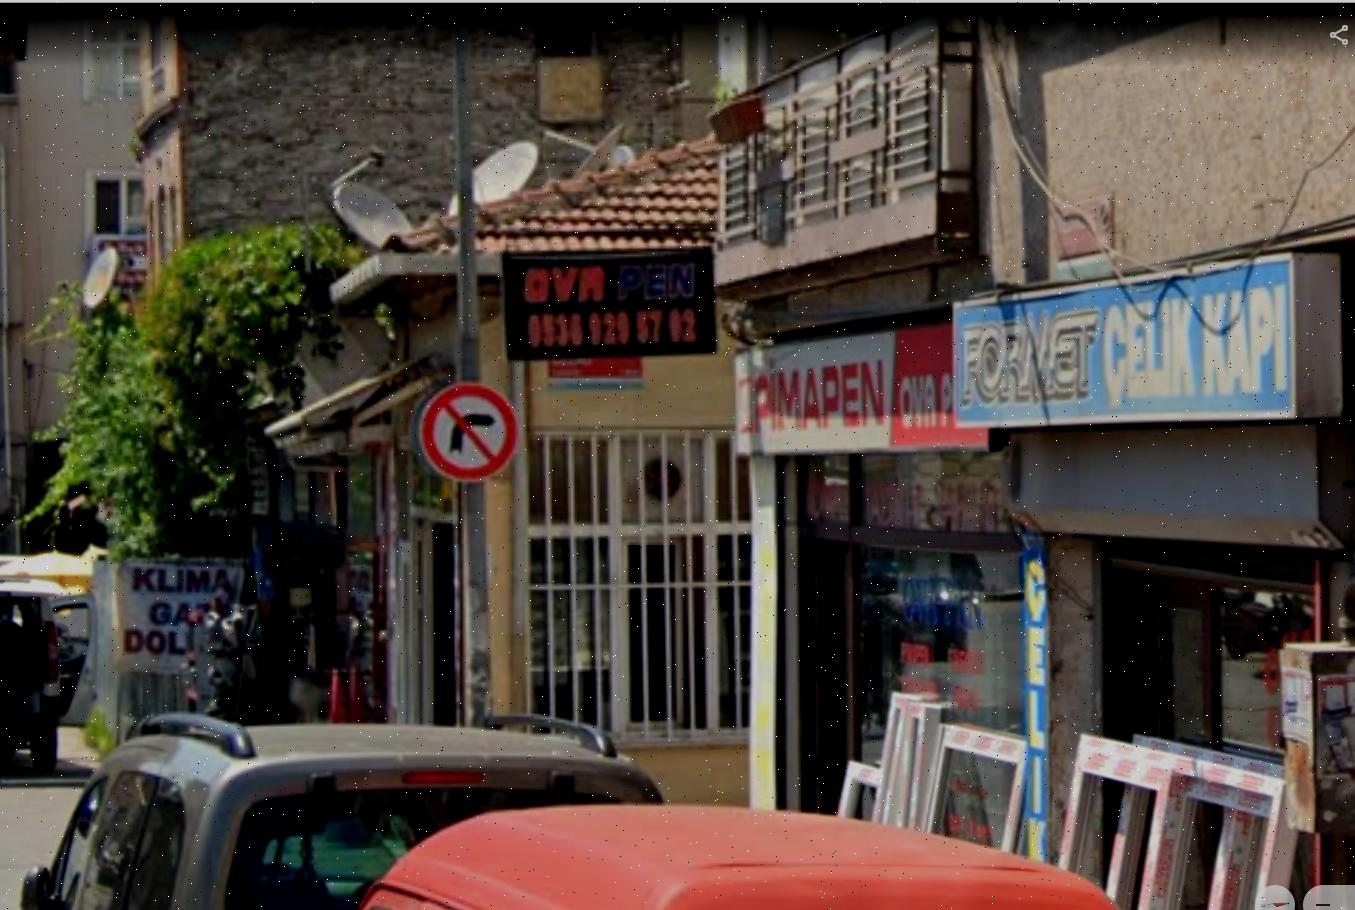rightturnsareforbidden: (422, 385, 518, 478)
